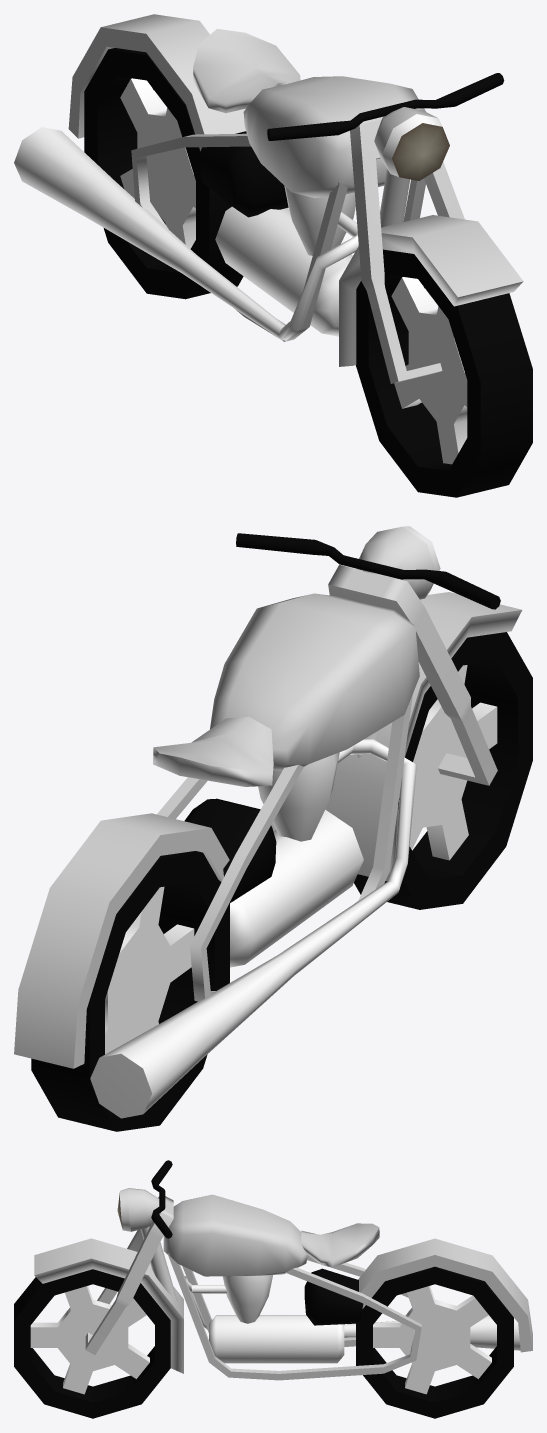
3 renders of one model, top to bottom at view 1: azimuth 30°, elevation 25°; view 2: azimuth 150°, elevation 25°; view 3: azimuth 270°, elevation 25°, orthographic. The views are drawn at different scales.
Parts seen in each view (by area): view 1: color.092; view 2: color.092; view 3: color.092.
Part boxes in pixels (<box>): color.092: <box>14,14,532,497</box>; color.092: <box>14,526,532,1131</box>; color.092: <box>14,1160,532,1418</box>.
Bounding box in the file's own units: 0.1642 × 0.2356 × 0.5.
